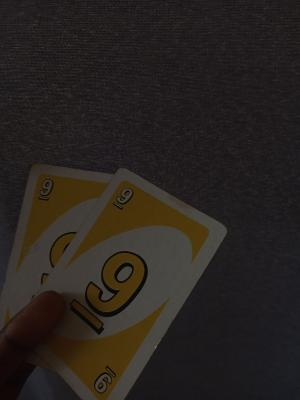num_9: (71, 247, 157, 338), (109, 184, 156, 236)
yellow: (32, 175, 80, 267), (76, 341, 125, 393)
